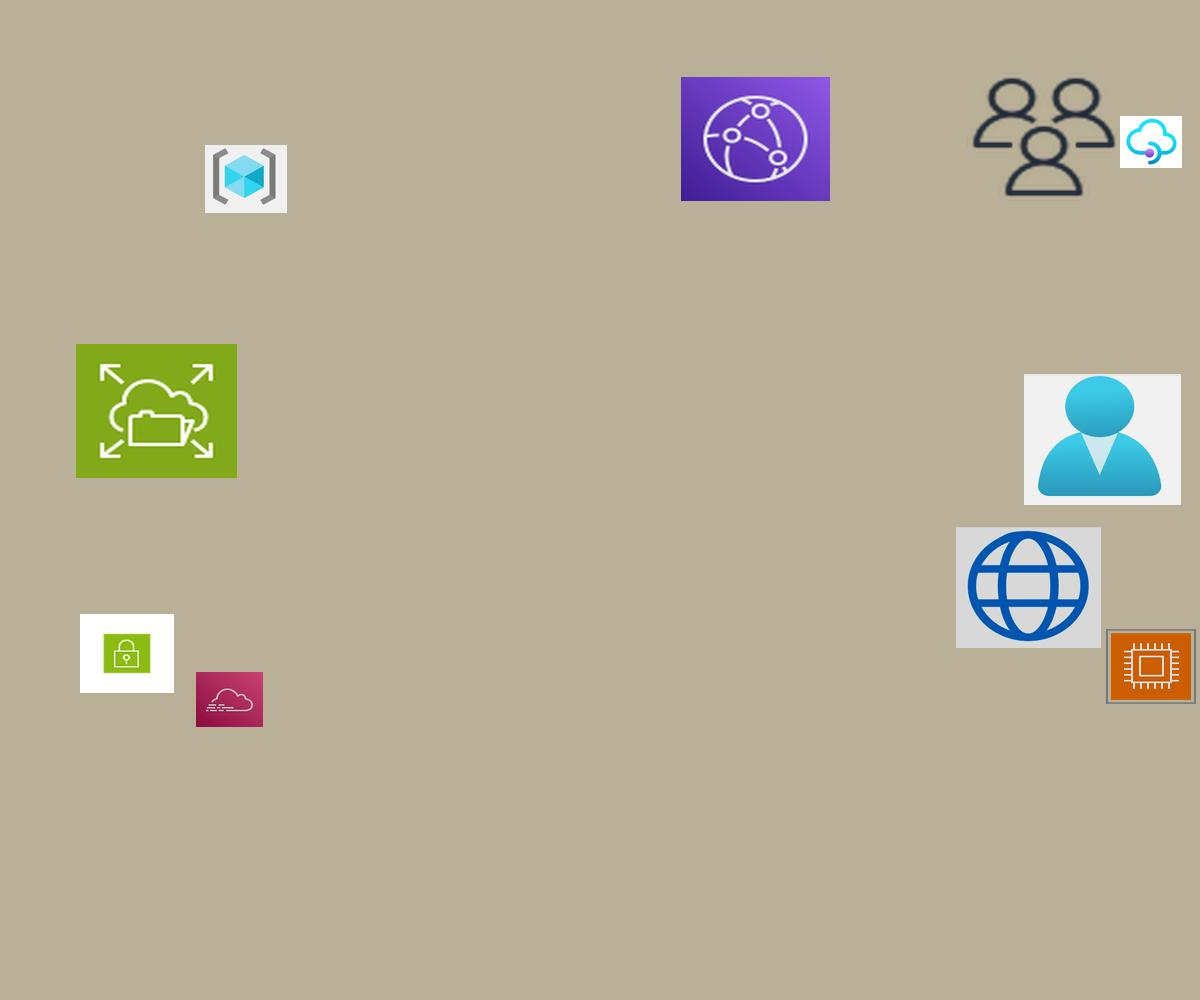AWS-Category_Compute: (1106, 629, 1196, 704)
AWS-CloudFront: (681, 77, 830, 201)
AWS-CloudTrail: (196, 672, 263, 727)
AWS-EFS: (76, 344, 237, 478)
AWS-Public-subnet: (80, 614, 174, 693)
AWS-Res_Users: (967, 73, 1121, 201)
Azure_api_gateway: (1120, 116, 1182, 168)
Azure_http: (956, 527, 1101, 648)
Azure_resource_group: (205, 145, 287, 213)
Azure_users: (1024, 374, 1181, 505)
